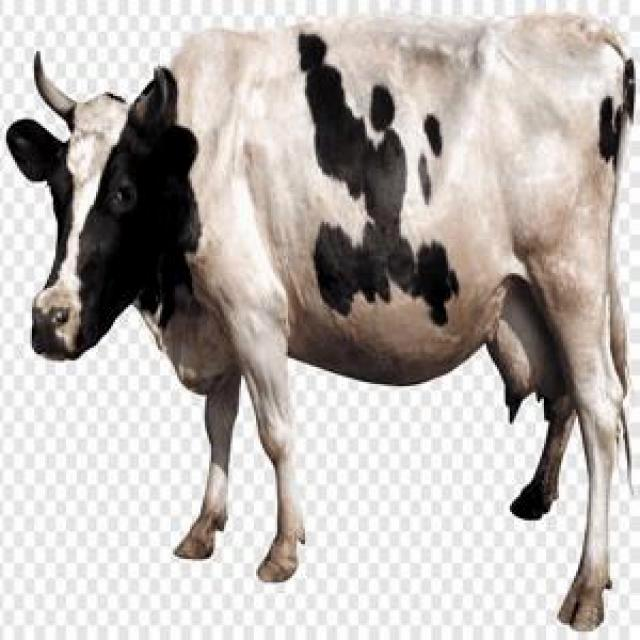COW: (8, 15, 634, 629)
